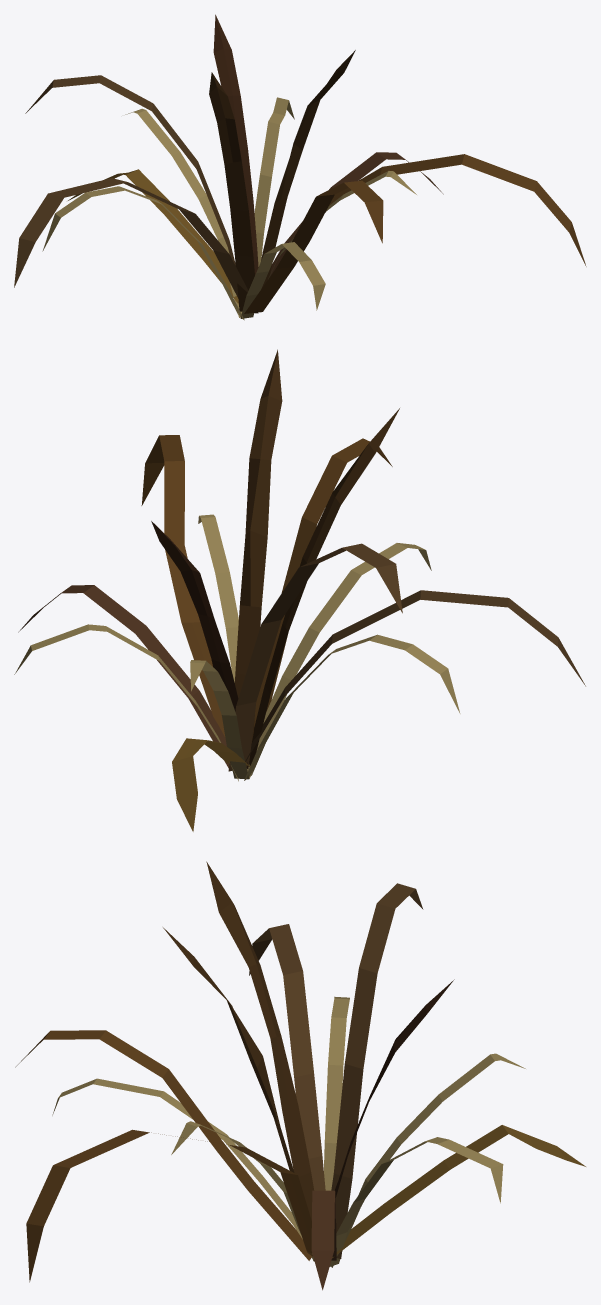
Rendered from DeadGrass.glb.
The picture shows the model from 3 angles, top to bottom: view 1: azimuth 30°, elevation 25°; view 2: azimuth 150°, elevation 25°; view 3: azimuth 270°, elevation 25°; orthographic projection. The views are drawn at different scales.
Visible parts, largest first — view 1: Plane.002, Plane.001, Plane.007, Plane; view 2: Plane.002, Plane, Plane.001, Plane.007; view 3: Plane, Plane.001, Plane.007, Plane.002.
Part boxes in pixels (left/top/right/bottom): Plane.002: left=209, top=14, right=355, bottom=313; Plane.001: left=68, top=154, right=586, bottom=313; Plane.007: left=42, top=97, right=416, bottom=320; Plane: left=14, top=75, right=443, bottom=297; Plane.002: left=151, top=349, right=399, bottom=768; Plane: left=18, top=543, right=585, bottom=771; Plane.001: left=141, top=435, right=392, bottom=831; Plane.007: left=14, top=514, right=460, bottom=781; Plane: left=249, top=883, right=423, bottom=1290; Plane.001: left=15, top=1030, right=585, bottom=1282; Plane.007: left=52, top=996, right=525, bottom=1267; Plane.002: left=163, top=861, right=454, bottom=1256.
Bounding box in the file's own units: 5.86 × 3.62 × 5.19.
7 materials, 7 textured.
